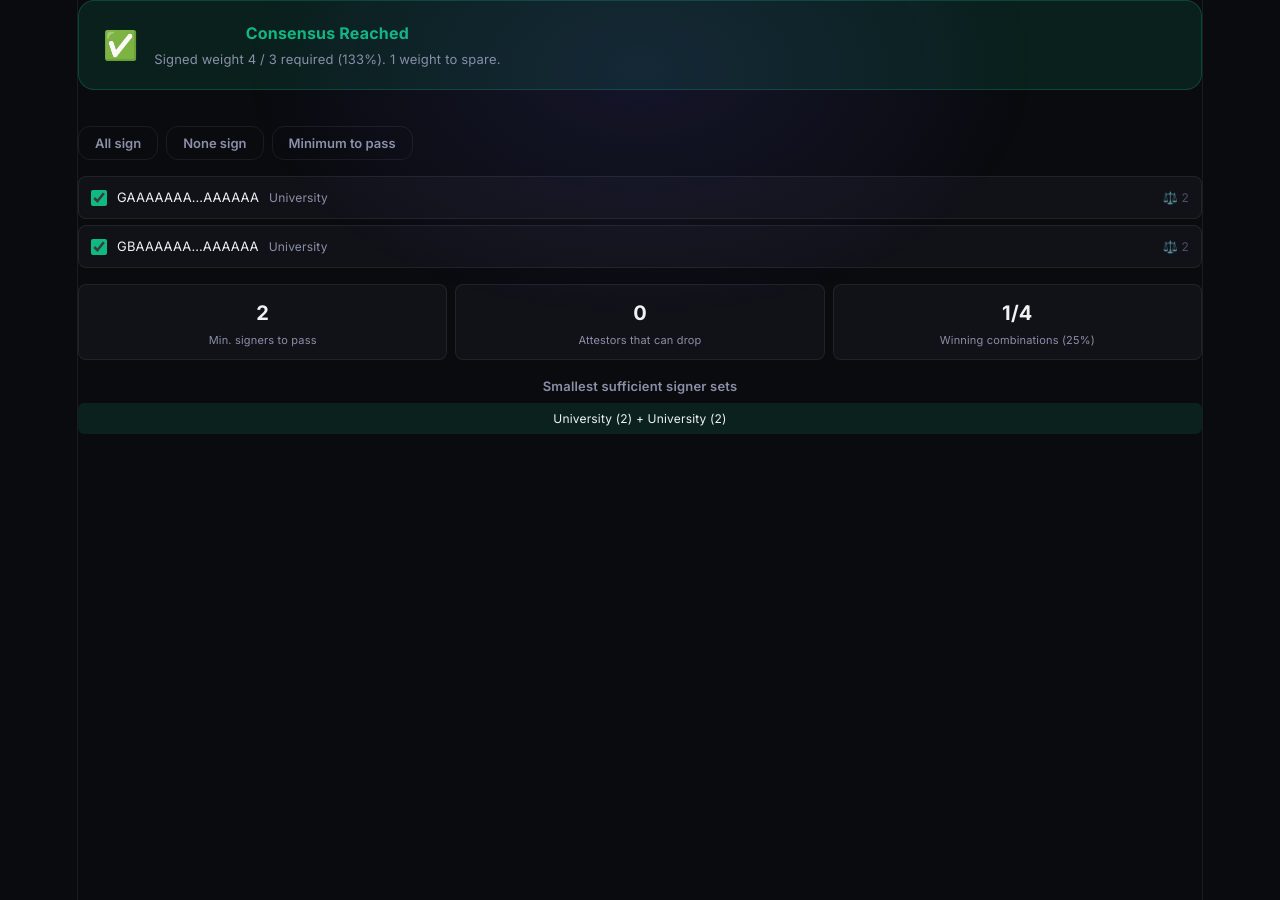
Scenario: <SliceSimulator /> › "Minimum to pass" selects a sufficient signer set
Click the button "None sign".
click(215, 143)  # box [166, 126, 264, 160]
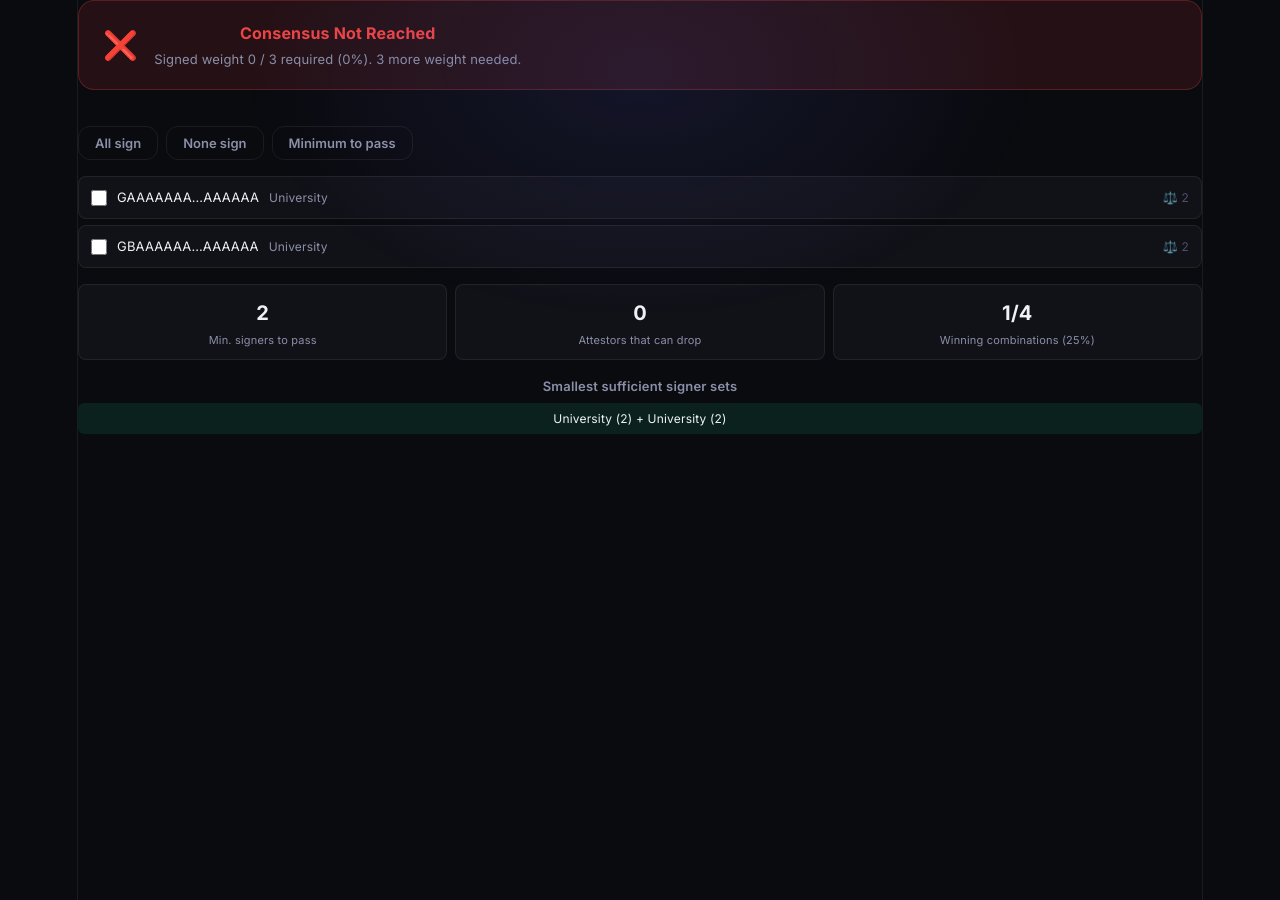
Now the text "Consensus Not Reached" is shown, box [240, 23, 436, 43]
Click the button "Minimum to pass".
click(342, 143)  # box [272, 126, 412, 160]
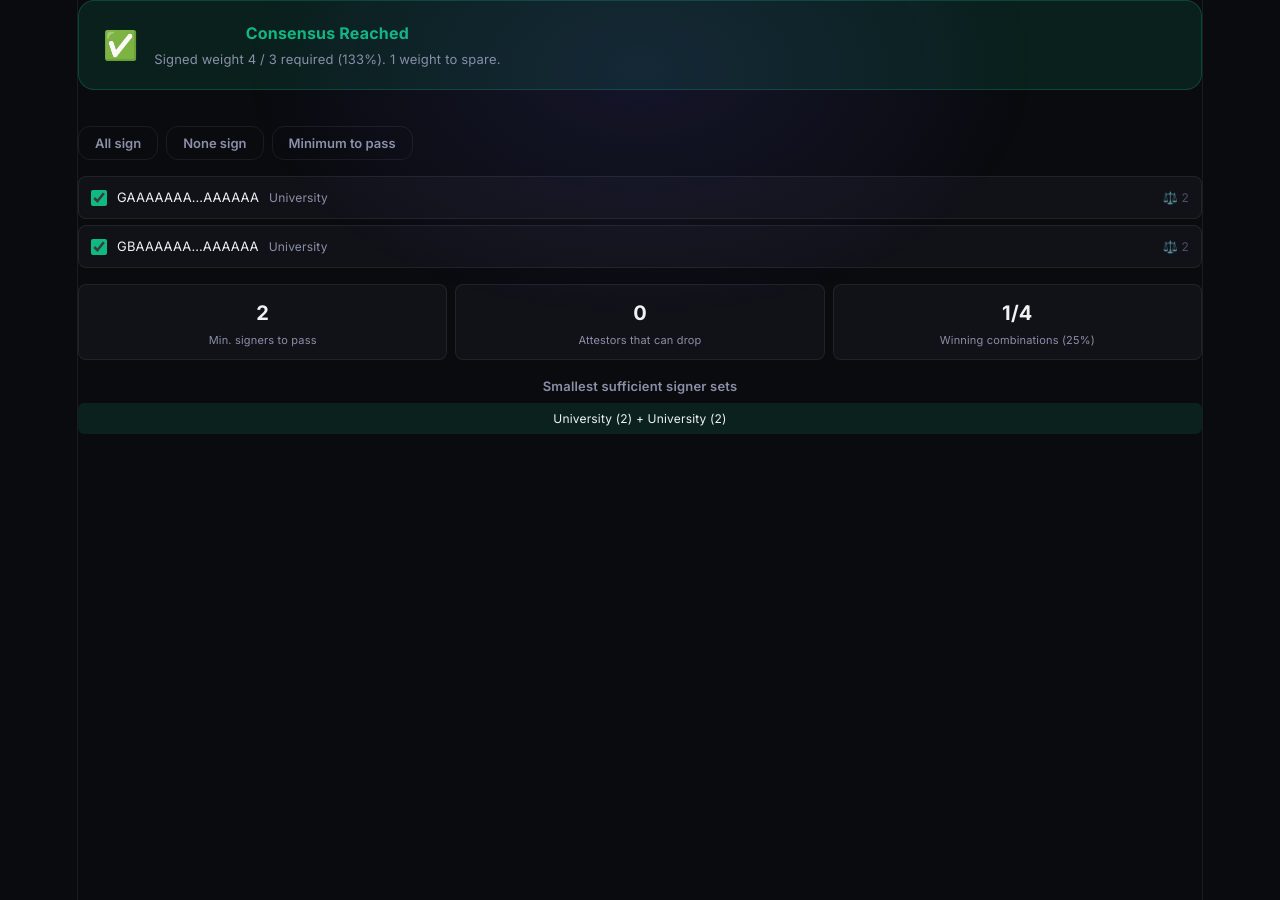
Now the text "Consensus Reached" is shown, box [246, 23, 409, 43]
